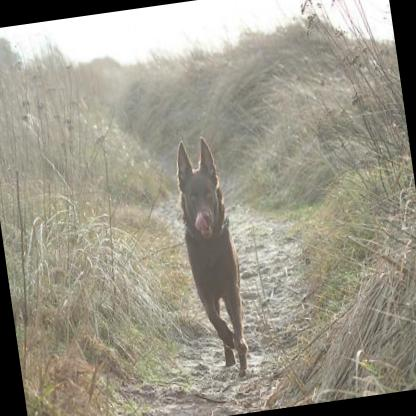kelpie: (168, 132, 253, 378)
